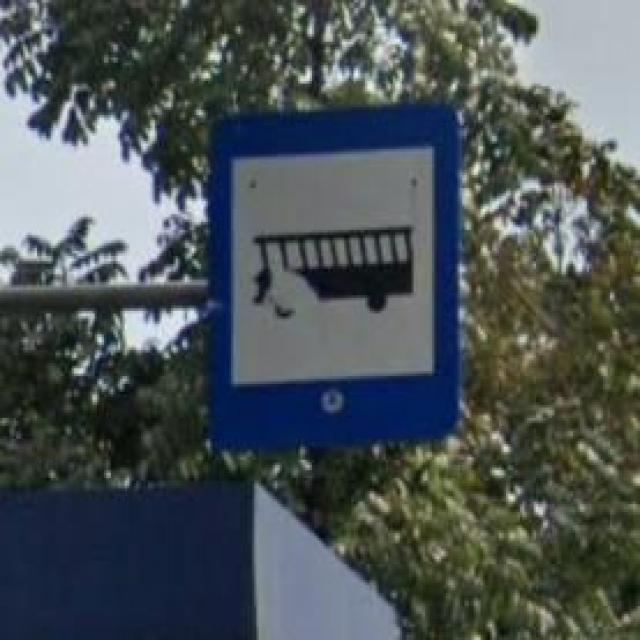traffic sign: (206, 105, 458, 450)
